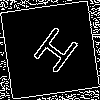H: (25, 25, 81, 83)
